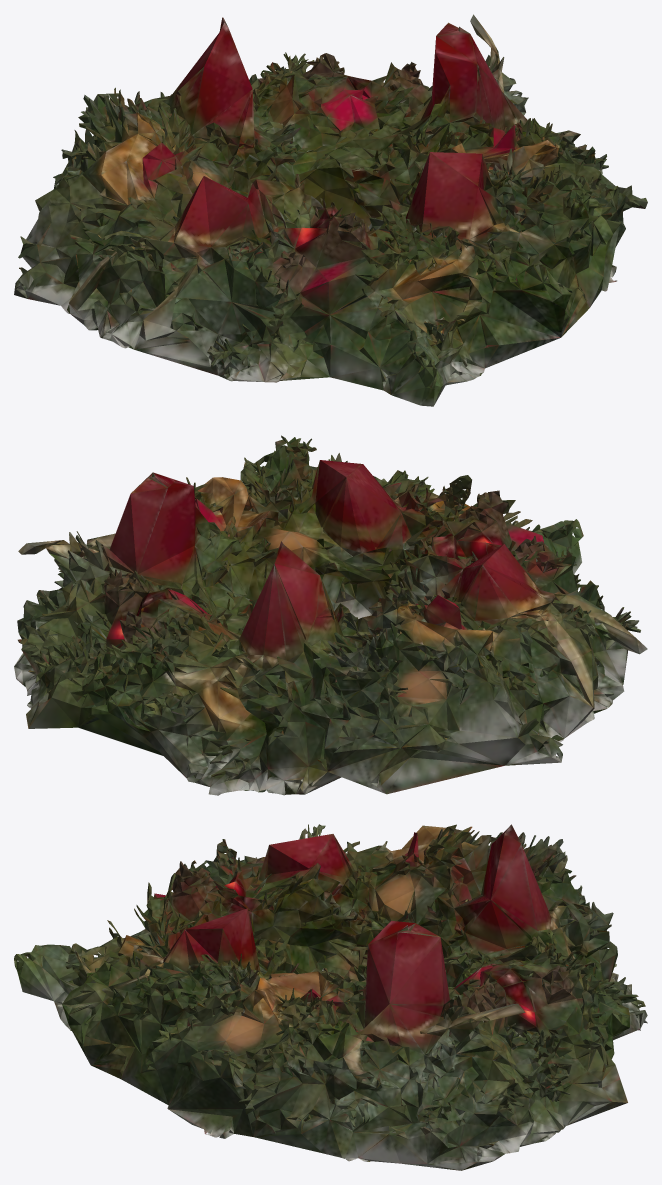
3 views of the same model, one above another, from view 1: azimuth 30°, elevation 25°; view 2: azimuth 150°, elevation 25°; view 3: azimuth 270°, elevation 25° (orthographic). The views are drawn at different scales.
Visible parts, largest first — view 1: Adventskranz_28k_1k; view 2: Adventskranz_28k_1k; view 3: Adventskranz_28k_1k.
Part boxes in pixels (x1=…): Adventskranz_28k_1k: x1=14, y1=14, x2=647, y2=406; Adventskranz_28k_1k: x1=14, y1=435, x2=647, y2=795; Adventskranz_28k_1k: x1=14, y1=824, x2=647, y2=1170.
Bounding box in the file's own units: 0.4269 × 0.1597 × 0.4397.
1 material, 1 textured.
